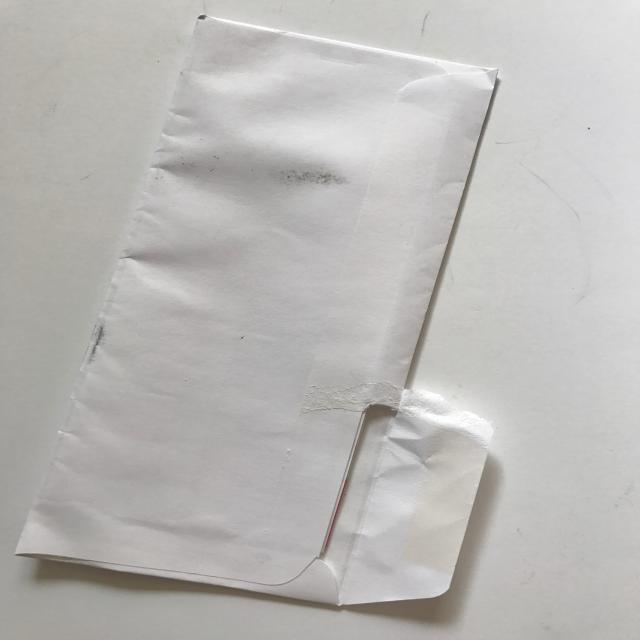paper: (10, 15, 502, 608)
